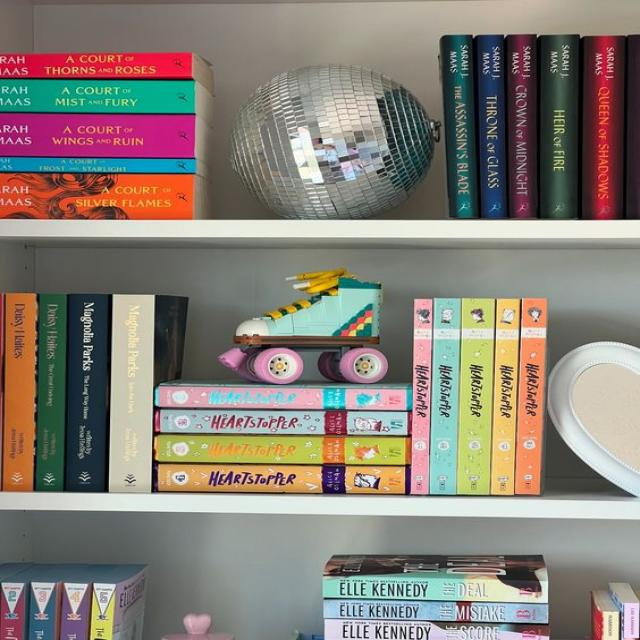book: (65, 295, 110, 491), (0, 173, 193, 218), (109, 295, 153, 491), (0, 113, 195, 157), (582, 36, 624, 219), (154, 434, 409, 463), (157, 465, 407, 494), (540, 35, 579, 219), (155, 383, 411, 410), (440, 34, 477, 218), (2, 293, 36, 491), (0, 79, 194, 113), (34, 293, 66, 491), (155, 409, 407, 434), (460, 298, 490, 494), (324, 576, 547, 602), (475, 36, 505, 218), (507, 35, 536, 218), (435, 299, 461, 491), (0, 53, 199, 78), (324, 600, 548, 620), (494, 300, 516, 500), (517, 298, 539, 493), (324, 621, 549, 640), (411, 299, 431, 494), (0, 157, 195, 173)
